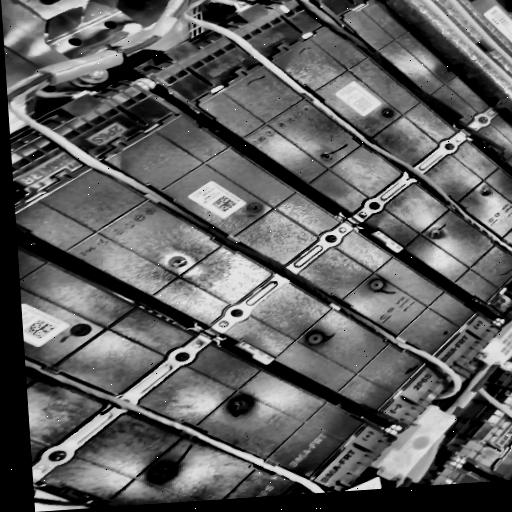battery_module: (14, 114, 498, 426), (189, 24, 512, 319)
high_volt_cable: (6, 0, 512, 401), (23, 349, 332, 494)
nut: (43, 449, 72, 465), (169, 349, 192, 365), (364, 199, 384, 213), (227, 308, 245, 319), (323, 234, 340, 245), (441, 142, 457, 152), (477, 116, 490, 125)
